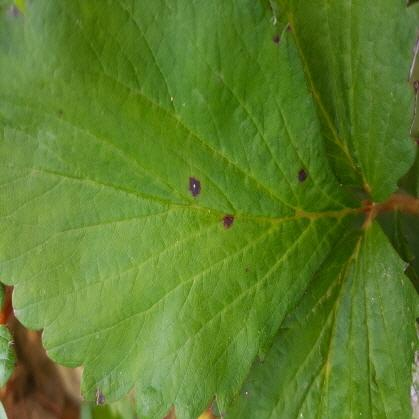Leaf Spot: (0, 0, 367, 418)
